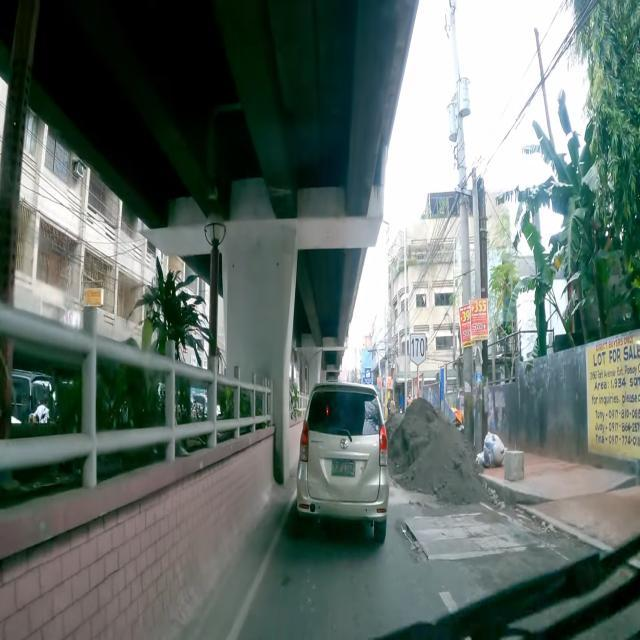car: (292, 382, 389, 544)
